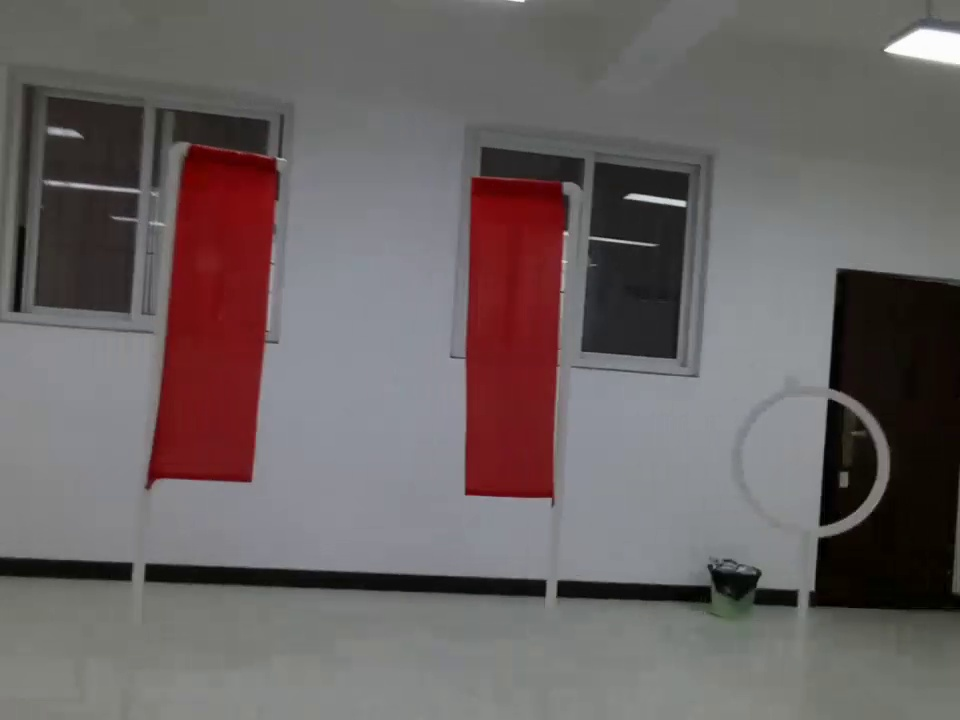qi: (137, 130, 288, 556), (449, 157, 577, 542)
quan: (727, 377, 894, 554)
